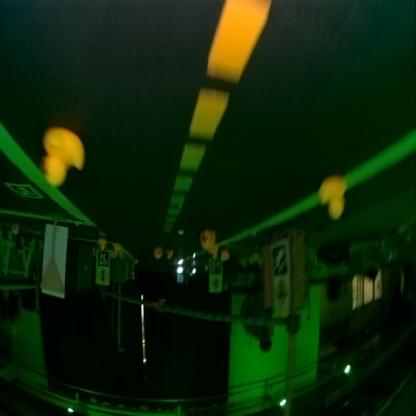Duckie: (42, 129, 84, 187), (319, 178, 347, 220), (201, 232, 215, 249), (96, 239, 106, 251), (220, 250, 228, 262), (154, 249, 162, 260), (166, 251, 172, 259)
Intersection sign: (273, 279, 289, 312), (209, 276, 221, 292)
QR code: (272, 242, 290, 277), (5, 184, 42, 198), (97, 251, 108, 267), (210, 260, 221, 276)
Signal sign: (96, 268, 108, 284)
